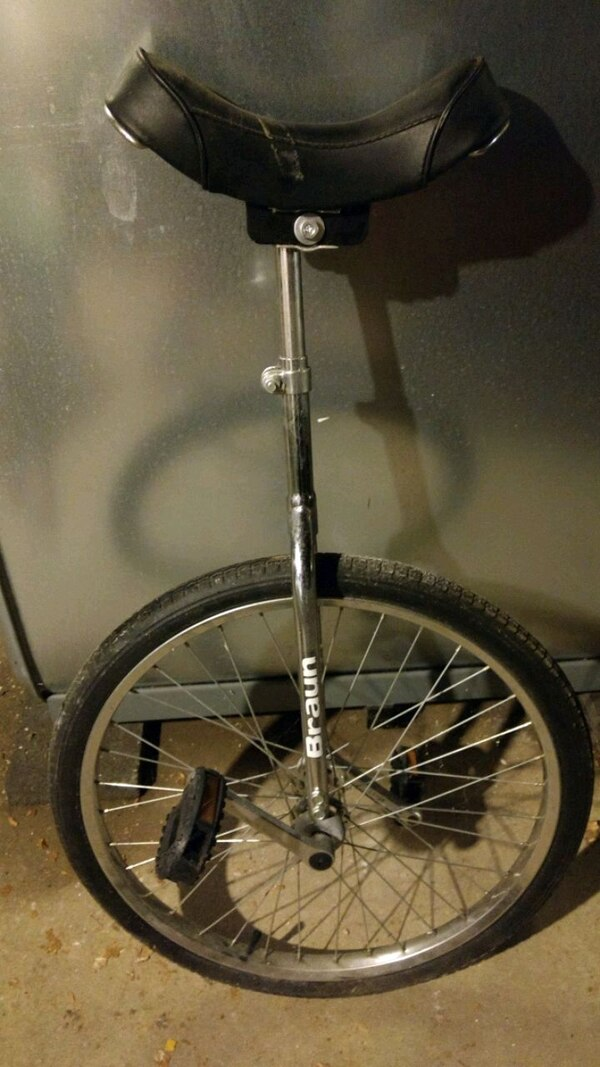seat: (101, 43, 545, 209)
wheel: (25, 538, 600, 1007)
